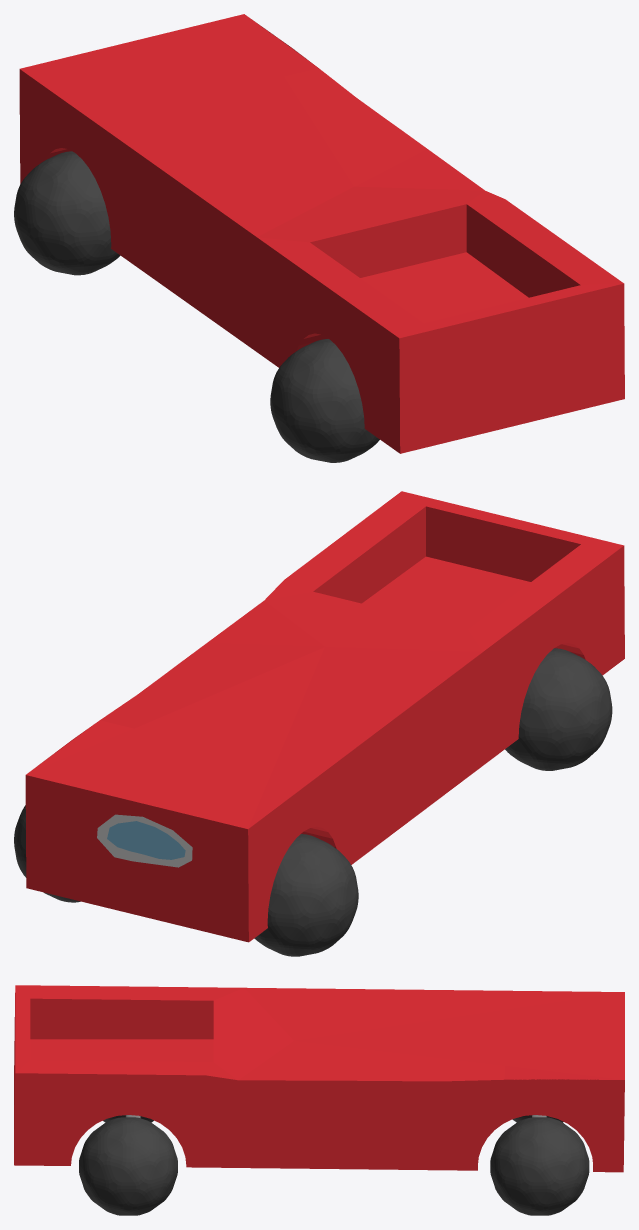
File: car.fbx
3 views of the same model, one above another, from view 1: azimuth 30°, elevation 25°; view 2: azimuth 150°, elevation 25°; view 3: azimuth 270°, elevation 25° (orthographic). The views are drawn at different scales.
Visible parts, largest first — view 1: Car body, front right wheel, back right wheel; view 2: Car body, back right wheel, front right wheel, front Left wheel; view 3: Car body, front Left wheel, back Left wheel.
Part boxes in pixels (x1,y1,x2,y2): Car body: [19, 14, 624, 453]; front right wheel: [14, 151, 120, 275]; back right wheel: [270, 339, 379, 462]; Car body: [25, 491, 624, 942]; back right wheel: [505, 648, 612, 770]; front right wheel: [254, 834, 358, 956]; front Left wheel: [14, 805, 80, 902]; Car body: [14, 985, 624, 1172]; front Left wheel: [490, 1117, 589, 1215]; back Left wheel: [79, 1117, 177, 1215].
Size of the model in its own units: 529 by 262 by 1056.
